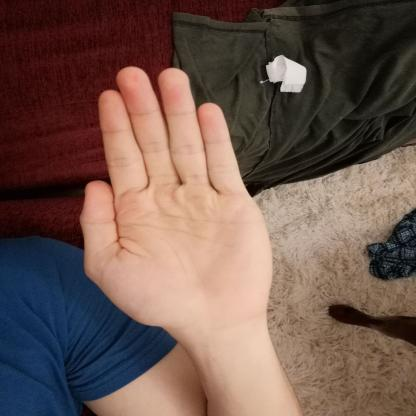SEEN: (67, 56, 284, 338)
